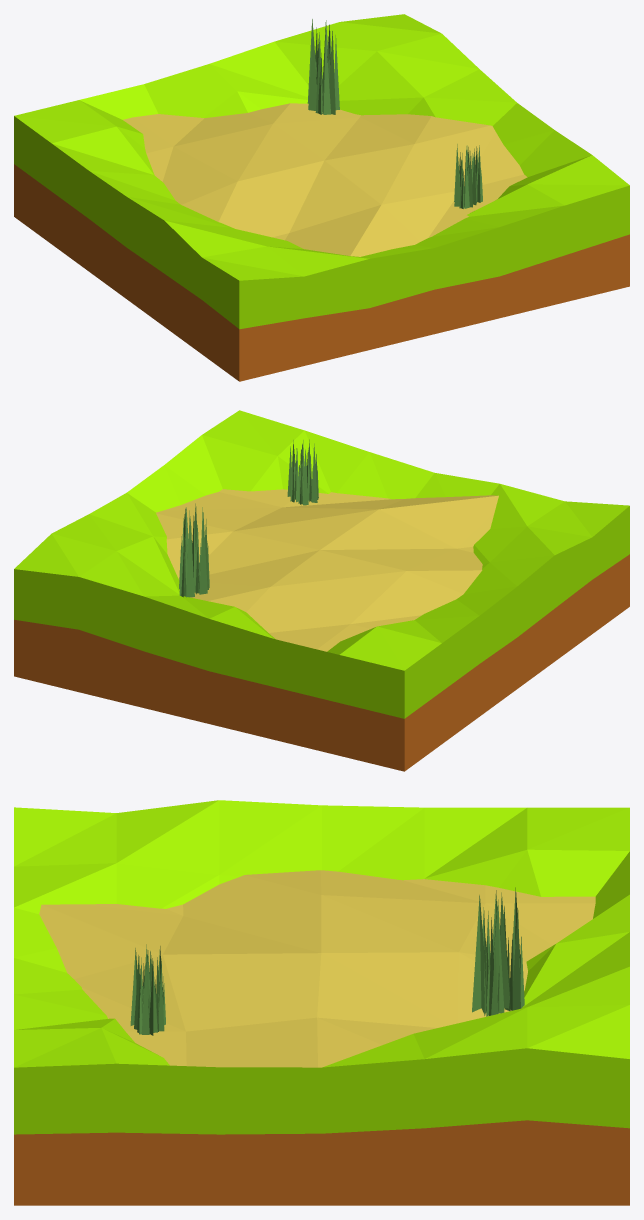
Rendered from MARAIS_eau-terrre.fbx.
3 renders of one model, top to bottom at view 1: azimuth 30°, elevation 25°; view 2: azimuth 150°, elevation 25°; view 3: azimuth 270°, elevation 25°, orthographic. The views are drawn at different scales.
Parts seen in each view (by area): view 1: herbe.008; view 2: herbe.008; view 3: herbe.008.
Part boxes in pixels (x1,y1,x2,y2): herbe.008: (14, 14, 629, 381); herbe.008: (14, 410, 629, 771); herbe.008: (14, 800, 629, 1205).
Bounding box in the file's own units: 5 × 2.06 × 5.
